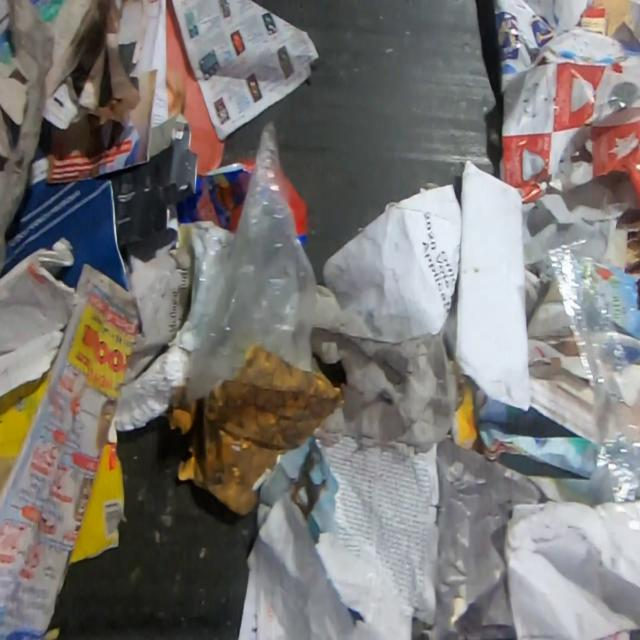cardboard: (169, 342, 345, 518), (66, 414, 126, 566), (0, 369, 56, 500)
soft_plastic: (189, 121, 323, 405), (548, 238, 640, 502), (436, 438, 546, 638)
